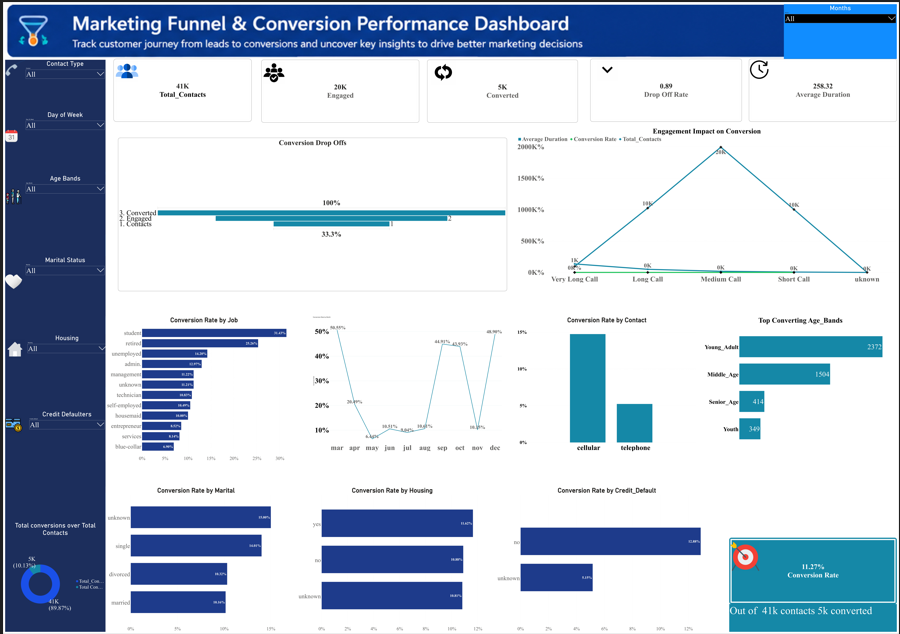

The dashboard page shown, as its layout file describes it:
{"tool":"powerbi","page":{"name":"Page 3","canvas":[9950,7000],"ordinal":0},"visuals":[{"type":"image","box":[0,0,9950,610],"z":0},{"type":"slicer","title":"Months","fields":{"Values":["cleaned_marketing_funnel_data (3).Month"]},"box":[8690,0,1260,610],"z":1},{"type":"shape","box":[0,620,1120,6380],"z":2},{"type":"slicer","title":"Contact Type","fields":{"Values":["cleaned_marketing_funnel_data (3).Contact"]},"box":[220,620,900,590],"z":4},{"type":"image","box":[0,610,140,250],"z":5},{"type":"slicer","title":"Day of Week","fields":{"Values":["cleaned_marketing_funnel_data (3).Day_Of_Week"]},"box":[220,1190,900,680],"z":6},{"type":"image","box":[0,1360,140,220],"z":7},{"type":"slicer","title":"Age Bands","fields":{"Values":["cleaned_marketing_funnel_data (3).Age_Bands"]},"box":[220,1900,900,670],"z":8},{"type":"image","box":[0,2060,190,170],"z":9},{"type":"slicer","title":"Marital Status","fields":{"Values":["cleaned_marketing_funnel_data (3).Marital"]},"box":[220,2810,900,690],"z":10},{"type":"image","box":[0,2990,190,210],"z":11},{"type":"slicer","title":"Housing","fields":{"Values":["cleaned_marketing_funnel_data (3).Housing"]},"box":[240,3680,900,590],"z":12},{"type":"image","box":[0,3710,220,280],"z":13},{"type":"slicer","title":"Credit Defaulters","fields":{"Values":["cleaned_marketing_funnel_data (3).Credit_Default"]},"box":[260,4530,860,920],"z":14},{"type":"image","box":[0,4530,190,330],"z":15},{"type":"donutChart","title":"Total conversions over Total Contacts","fields":{"Y":["Measures_Table.Total_Contacts","Measures_Table.Total Conversions"]},"box":[0,5770,1120,1230],"z":16},{"type":"cardVisual","fields":{"Data":["Measures_Table.Total_Contacts"]},"box":[1210,610,1540,700],"z":17},{"type":"image","box":[1210,620,300,250],"z":18},{"type":"cardVisual","fields":{"Data":["Measures_Table.Engaged"]},"box":[2860,620,1760,700],"z":19},{"type":"image","box":[2860,640,280,250],"z":20},{"type":"cardVisual","fields":{"Data":["Measures_Table.Converted"]},"box":[4710,620,1680,700],"z":21},{"type":"image","box":[4710,620,360,280],"z":22},{"type":"cardVisual","fields":{"Data":["Measures_Table.Drop Off Rate"]},"box":[6530,610,1690,700],"z":23},{"type":"image","box":[6580,610,280,240],"z":24},{"type":"cardVisual","fields":{"Data":["Measures_Table.Average Duration"]},"box":[8300,610,1650,700],"z":25},{"type":"image","box":[8300,610,230,240],"z":26},{"type":"funnel","title":"Conversion Drop Offs","fields":{"Category":["Funnel_Stages.Stage"],"Y":["Sum(Funnel_Stages.Order)"]},"box":[1260,1490,4340,1710],"z":48},{"type":"lineChart","title":"Engagement Impact on Conversion","fields":{"Category":["cleaned_marketing_funnel_data (3).Call_Duration_Bands"],"Y":["Measures_Table.Average Duration","Measures_Table.Conversion Rate","Measures_Table.Total_Contacts"]},"box":[5710,1370,4240,1740],"z":49},{"type":"clusteredBarChart","fields":{"Category":["cleaned_marketing_funnel_data (3).Job"],"Y":["Measures_Table.Conversion Rate"]},"box":[1120,3480,2200,1620],"z":50},{"type":"lineChart","fields":{"Category":["cleaned_marketing_funnel_data (3).Month"],"Y":["Measures_Table.Conversion Rate"]},"box":[3430,3480,2120,1510],"z":51},{"type":"clusteredColumnChart","fields":{"Category":["cleaned_marketing_funnel_data (3).Contact"],"Y":["Measures_Table.Conversion Rate"]},"box":[5710,3480,2010,1510],"z":52},{"type":"clusteredBarChart","title":"Top Converting Age_Bands","fields":{"Category":["cleaned_marketing_funnel_data (3).Age_Bands"],"Y":["Measures_Table.Converted"]},"box":[7800,3480,2150,1510],"z":53},{"type":"clusteredBarChart","fields":{"Category":["cleaned_marketing_funnel_data (3).Marital"],"Y":["Measures_Table.Conversion Rate"]},"box":[1120,5380,2020,1620],"z":54},{"type":"clusteredBarChart","fields":{"Category":["cleaned_marketing_funnel_data (3).Housing"],"Y":["Measures_Table.Conversion Rate"]},"box":[3250,5380,2140,1620],"z":55},{"type":"clusteredBarChart","fields":{"Category":["cleaned_marketing_funnel_data (3).Credit_Default"],"Y":["Measures_Table.Conversion Rate"]},"box":[5470,5380,2490,1620],"z":56},{"type":"cardVisual","fields":{"Data":["Measures_Table.Conversion Rate"]},"box":[8080,5950,1870,740],"z":57},{"type":"textbox","box":[8080,6690,1870,310],"z":58},{"type":"image","box":[8080,6000,350,320],"z":59}]}

Visuals, with their boxes in screenshot pixels (x1, y1, x2, y2), scaled from the page's 9950x7000 canvas onto the 900x634 screenshot:
image: 0,0,899,55
"Months" slicer: 786,0,899,55
shape: 0,56,101,633
"Contact Type" slicer: 20,56,101,110
image: 0,55,13,78
"Day of Week" slicer: 20,108,101,169
image: 0,123,13,143
"Age Bands" slicer: 20,172,101,233
image: 0,187,17,202
"Marital Status" slicer: 20,255,101,317
image: 0,271,17,290
"Housing" slicer: 22,333,103,387
image: 0,336,20,361
"Credit Defaulters" slicer: 24,410,101,494
image: 0,410,17,440
"Total conversions over Total Contacts" donutChart: 0,523,101,633
cardVisual - Measures_Table.Total_Contacts: 109,55,249,119
image: 109,56,137,79
cardVisual - Measures_Table.Engaged: 259,56,418,120
image: 259,58,284,81
cardVisual - Measures_Table.Converted: 426,56,578,120
image: 426,56,459,82
cardVisual - Measures_Table.Drop Off Rate: 591,55,744,119
image: 595,55,621,77
cardVisual - Measures_Table.Average Duration: 751,55,899,119
image: 751,55,772,77
"Conversion Drop Offs" funnel: 114,135,507,290
"Engagement Impact on Conversion" lineChart: 516,124,899,282
clusteredBarChart - cleaned_marketing_funnel_data (3).Job x Measures_Table.Conversion Rate: 101,315,300,462
lineChart - cleaned_marketing_funnel_data (3).Month x Measures_Table.Conversion Rate: 310,315,502,452
clusteredColumnChart - cleaned_marketing_funnel_data (3).Contact x Measures_Table.Conversion Rate: 516,315,698,452
"Top Converting Age_Bands" clusteredBarChart: 706,315,899,452
clusteredBarChart - cleaned_marketing_funnel_data (3).Marital x Measures_Table.Conversion Rate: 101,487,284,633
clusteredBarChart - cleaned_marketing_funnel_data (3).Housing x Measures_Table.Conversion Rate: 294,487,488,633
clusteredBarChart - cleaned_marketing_funnel_data (3).Credit_Default x Measures_Table.Conversion Rate: 495,487,720,633
cardVisual - Measures_Table.Conversion Rate: 731,539,899,606
textbox: 731,606,899,633
image: 731,543,763,572
